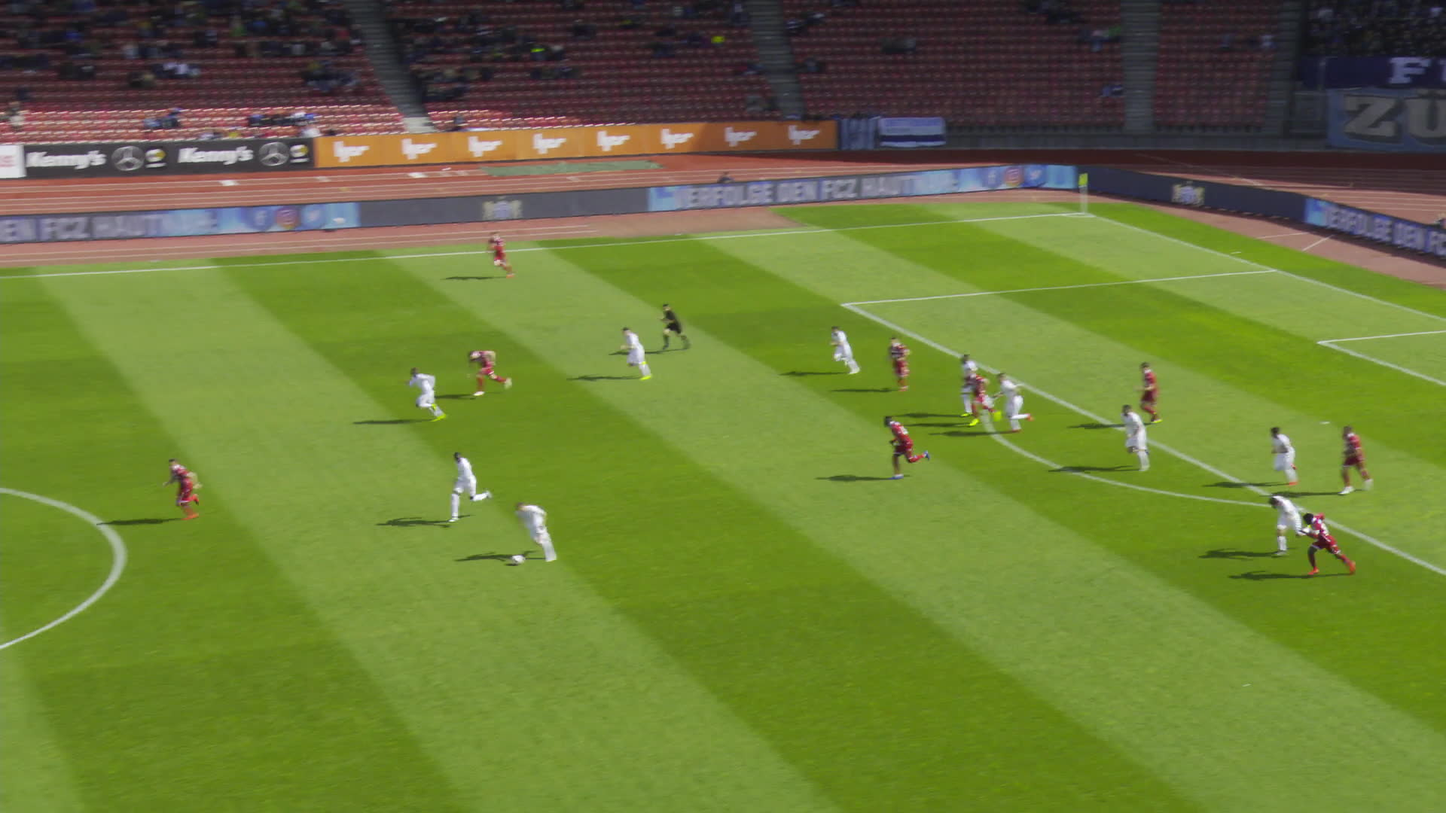ball: (505, 556, 516, 565)
player: (441, 452, 489, 520), (395, 367, 450, 424), (881, 414, 926, 481), (1304, 516, 1352, 577), (159, 460, 203, 523), (1261, 492, 1305, 554), (505, 502, 548, 562), (1265, 424, 1304, 486), (986, 373, 1027, 431), (456, 347, 505, 395), (1109, 404, 1142, 475), (613, 326, 655, 380), (1327, 428, 1358, 495), (954, 371, 991, 427), (1133, 360, 1163, 423), (821, 325, 856, 375), (880, 336, 908, 394), (957, 354, 981, 416), (472, 233, 500, 282)
referee: (650, 306, 676, 353)
